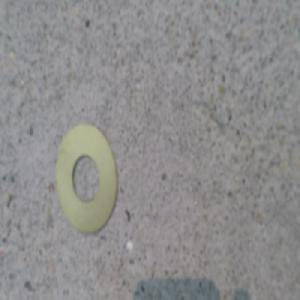Washer: (55, 121, 118, 231)
